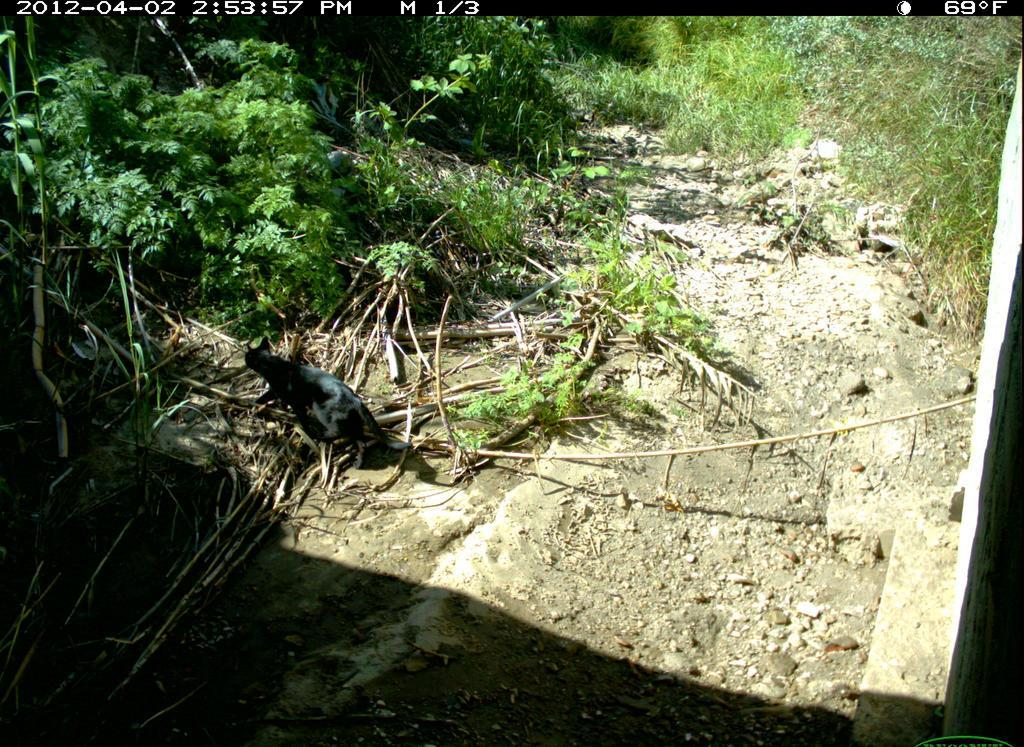cat: (239, 333, 405, 474)
